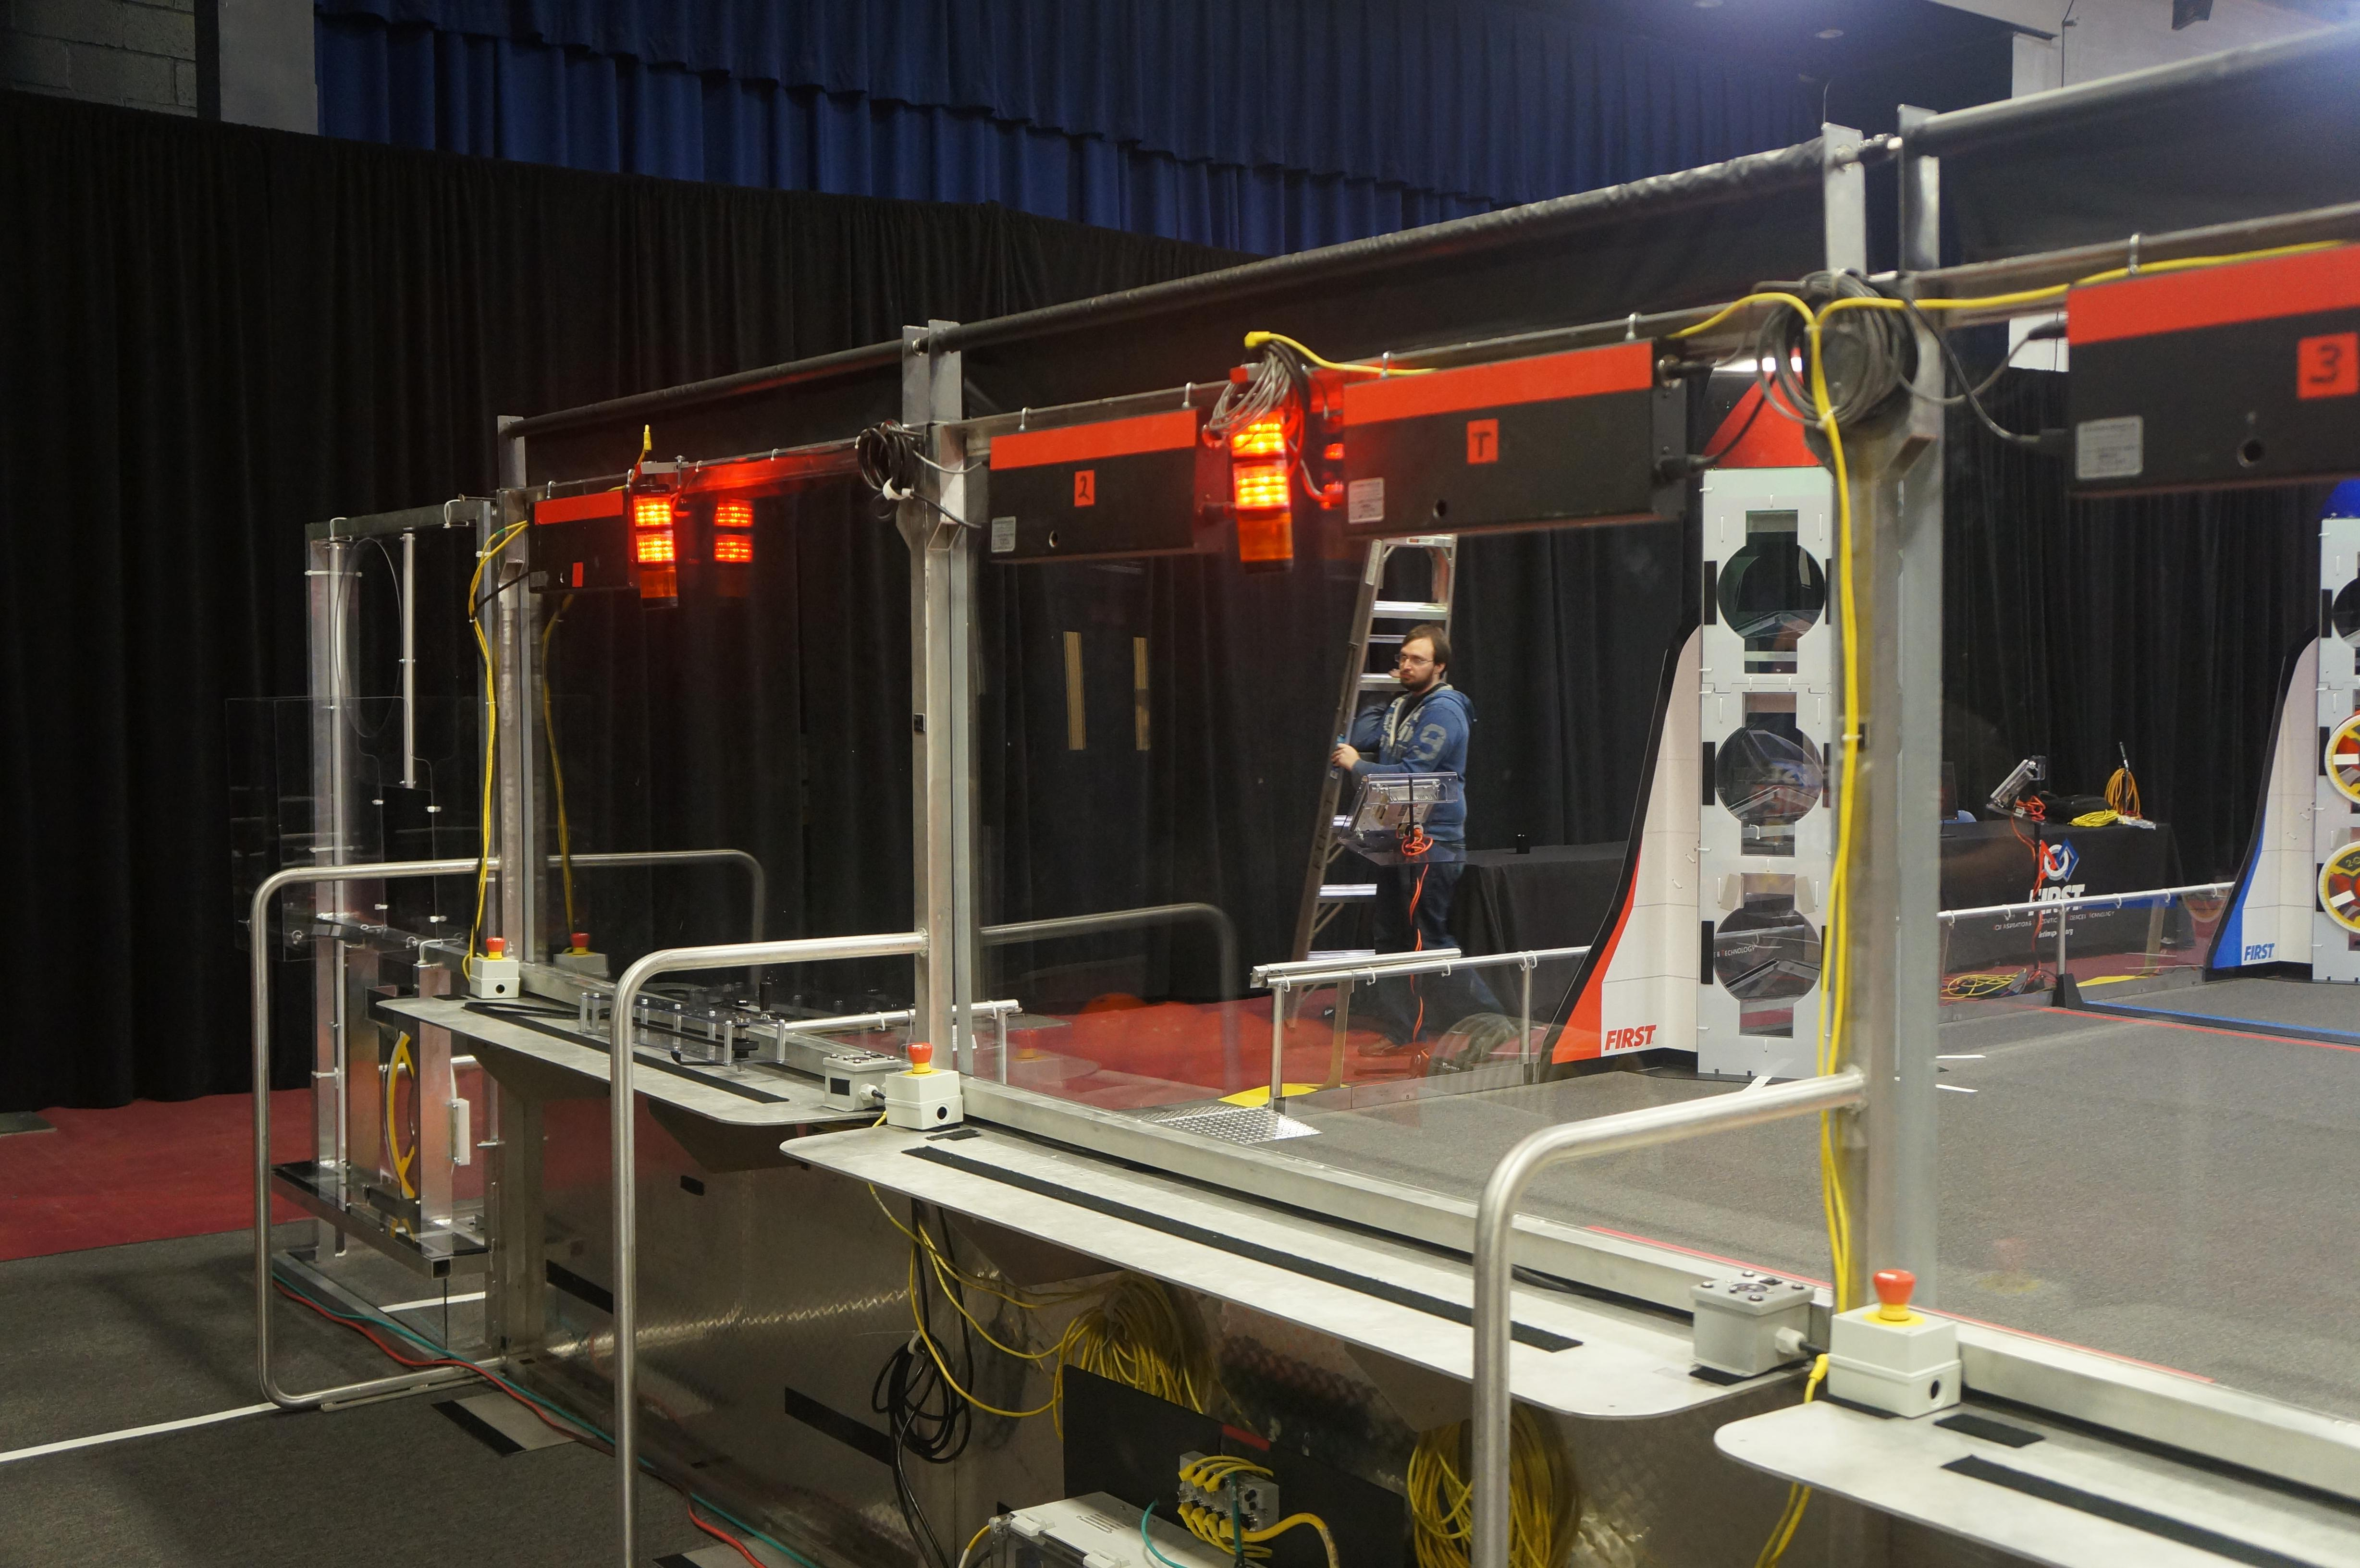Hatch: (2315, 836, 2360, 941), (2325, 700, 2360, 817)
Tape: (1718, 868, 1749, 917), (1793, 875, 1819, 917)
